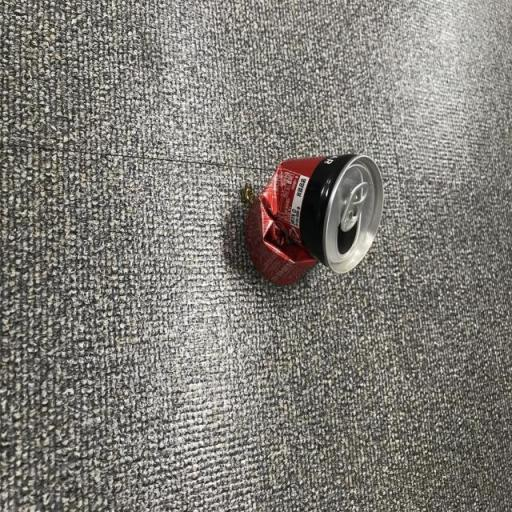metal: (218, 142, 408, 320)
